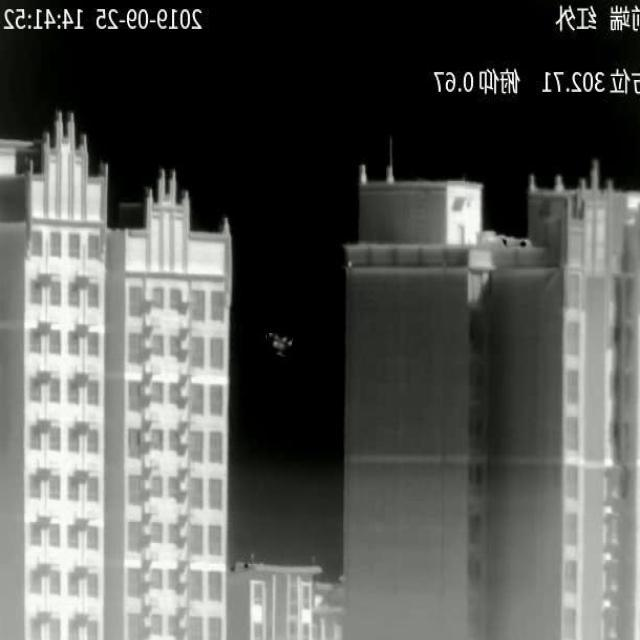drone: (269, 333, 292, 355)
